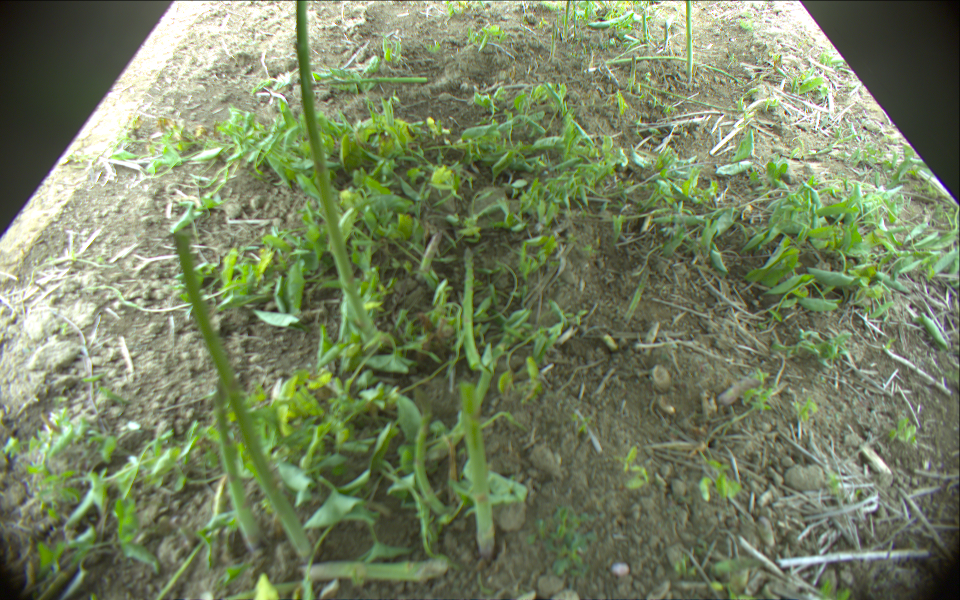aspa: (170, 230, 313, 560), (294, 1, 377, 335), (212, 381, 265, 554), (460, 382, 496, 559), (605, 55, 740, 84), (298, 559, 450, 582), (637, 82, 749, 112), (415, 413, 446, 521), (463, 248, 483, 371), (623, 266, 649, 324), (417, 229, 442, 279), (313, 76, 428, 86), (587, 8, 634, 29), (685, 1, 692, 84), (562, 1, 570, 40), (629, 55, 636, 85), (572, 1, 577, 37), (642, 14, 648, 43), (551, 21, 556, 55), (663, 23, 668, 49)
